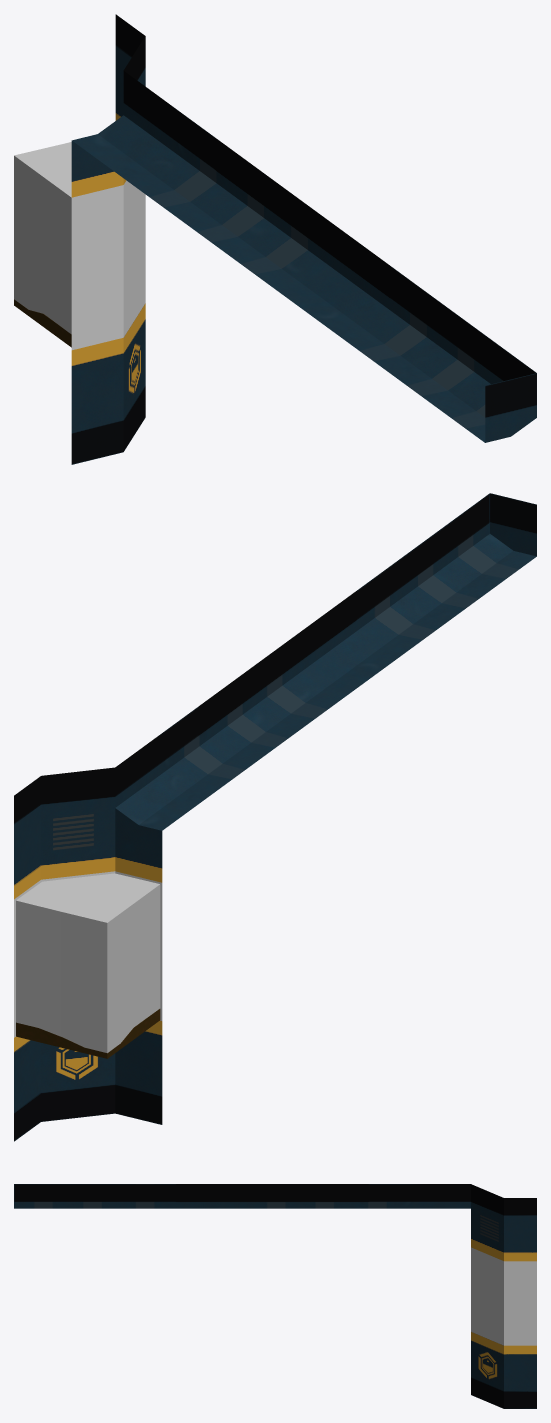
File: Planter.fbx
The picture shows the model from 3 angles, top to bottom: view 1: azimuth 30°, elevation 25°; view 2: azimuth 150°, elevation 25°; view 3: azimuth 270°, elevation 25°; orthographic projection. The views are drawn at different scales.
Parts seen in each view (by area): view 1: Planter; view 2: Planter; view 3: Planter.
Part boxes in pixels (<box>): Planter: <box>14,14,536,464</box>; Planter: <box>14,493,536,1141</box>; Planter: <box>14,1184,536,1408</box>.
Size of the model in its own units: 462 by 1626 by 3653.
